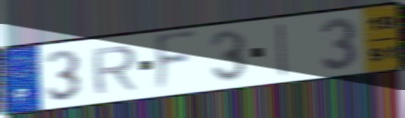3: (317, 14, 358, 73), (208, 28, 249, 85), (43, 47, 84, 102)
F: (153, 28, 201, 97)
I: (275, 21, 289, 79)
R: (89, 43, 140, 97)
